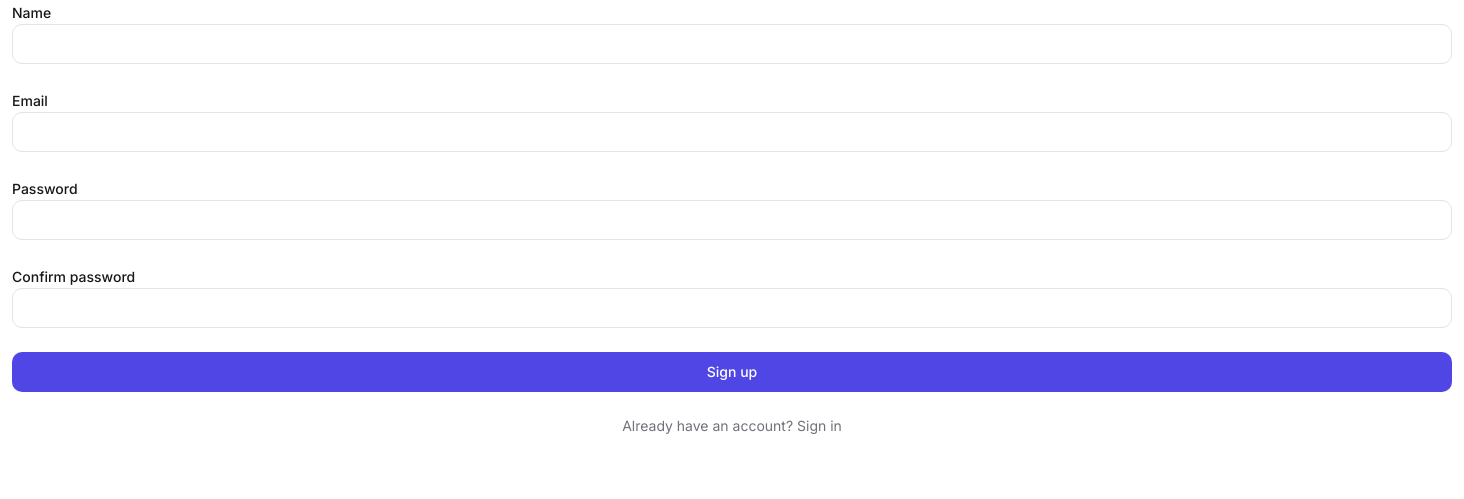
Test case: SignUpForm › shows validation messages from the server
Type "secret123" into the password field labelled "Password" at (732, 220), box [12,200,1452,240]
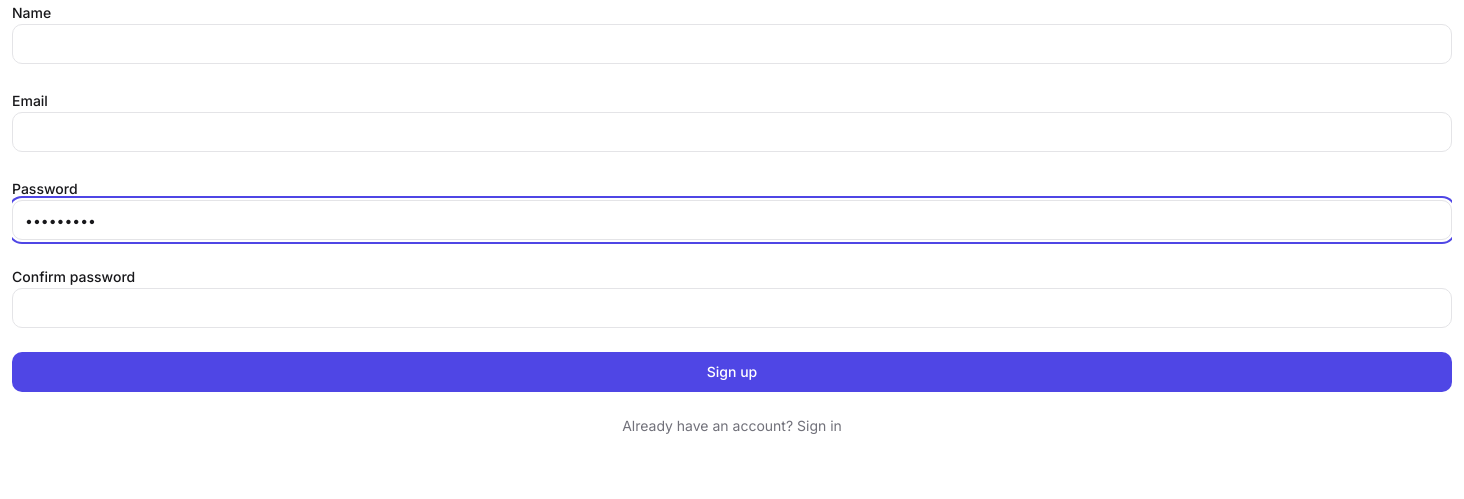
Type "other123" into the password field labelled "Confirm password" at (732, 308), box [12,288,1452,328]
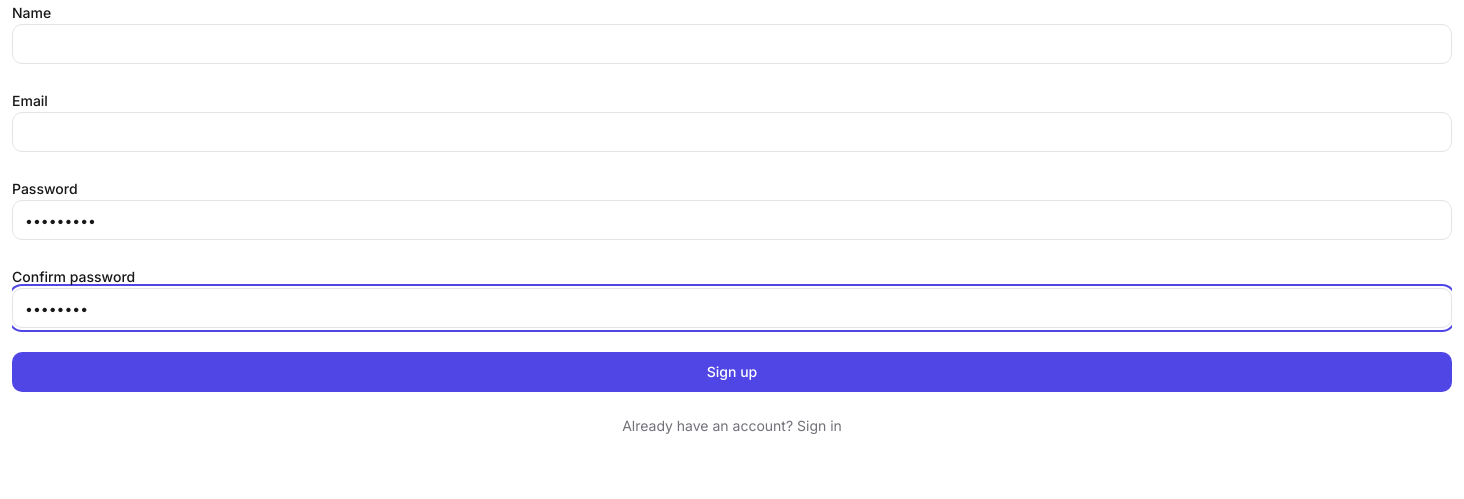
Click the button "Sign up" at (732, 372), box [12,352,1452,392]
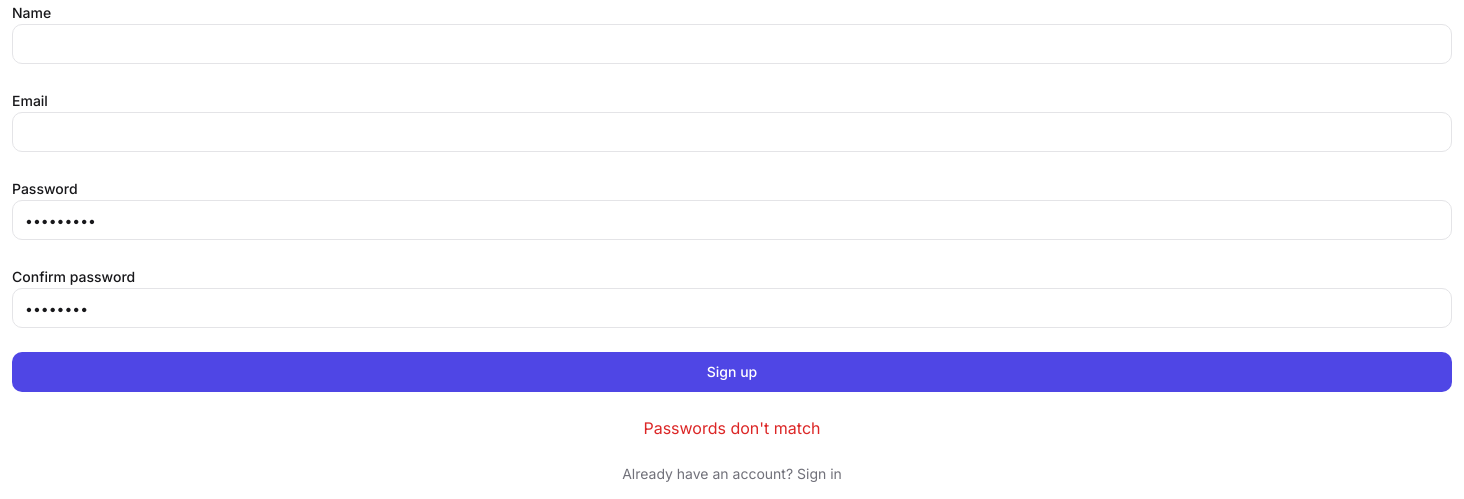
Expected: the text "Passwords don't match" is shown, [644,418,820,438]
